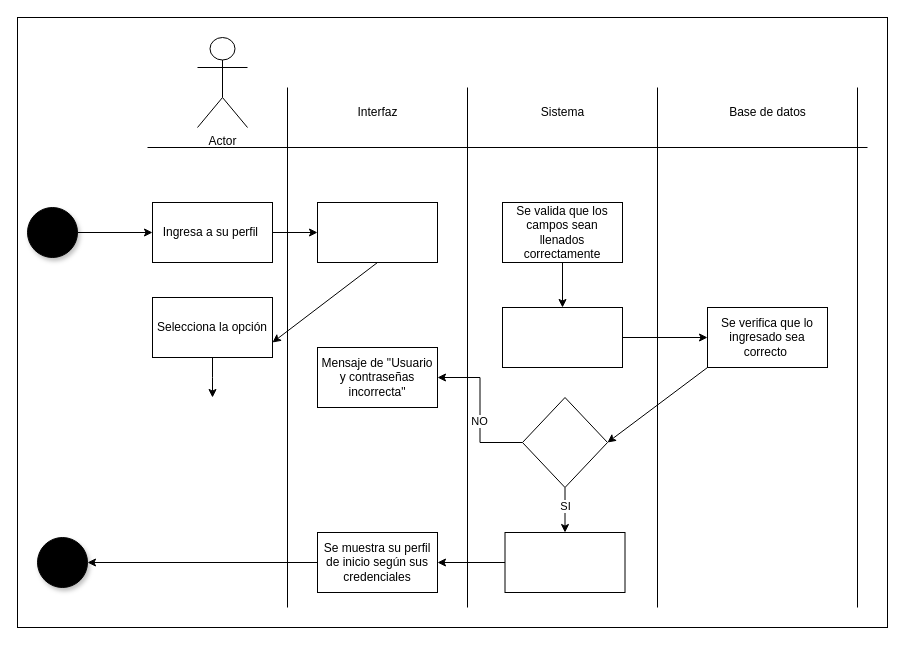
The diagram is 905 pixels wide and 645 high, and some of its shapes have lost their labels. The centre of each missing label's shape, as x and y in pixels:
"Envía consulta de datos que coincidan con lo ingresado" belongs at pixel 562 337.
"Se accede a su perfil de usuario" belongs at pixel 564 562.
"Se despliegan distintas opciones" belongs at pixel 377 232.
"¿Datos recibidos son correctos?" belongs at pixel 565 442.
